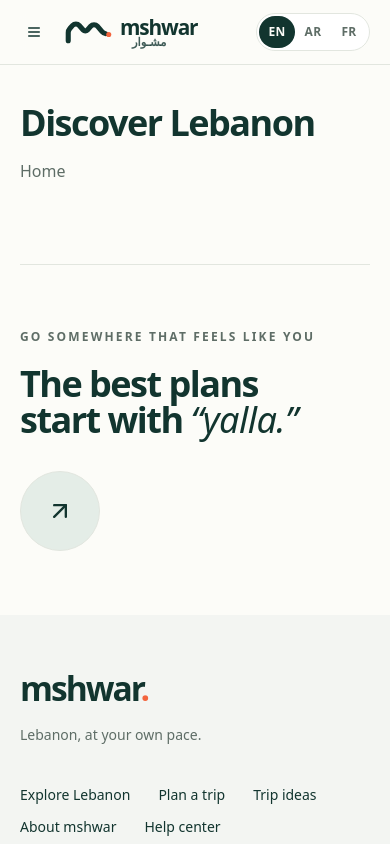
Test case: responsive app shells › flips document direction from the language switcher without a reload
Click the button with aria-label "العربية": (313, 32) [295,16,331,48]
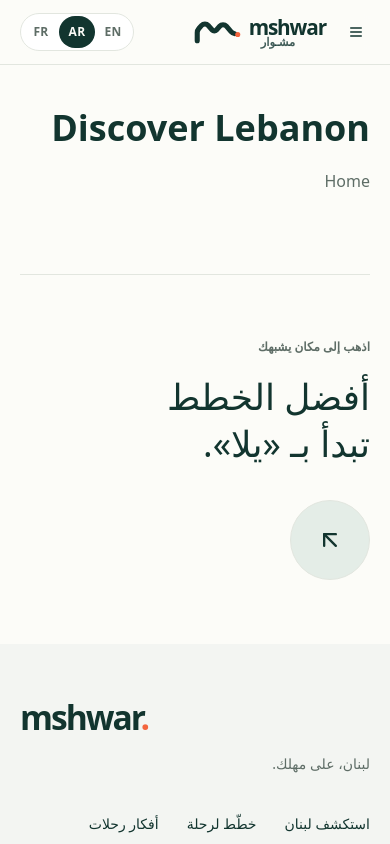
expect the button named "فتح القائمة" is shown: met, box [334,10,378,54]
